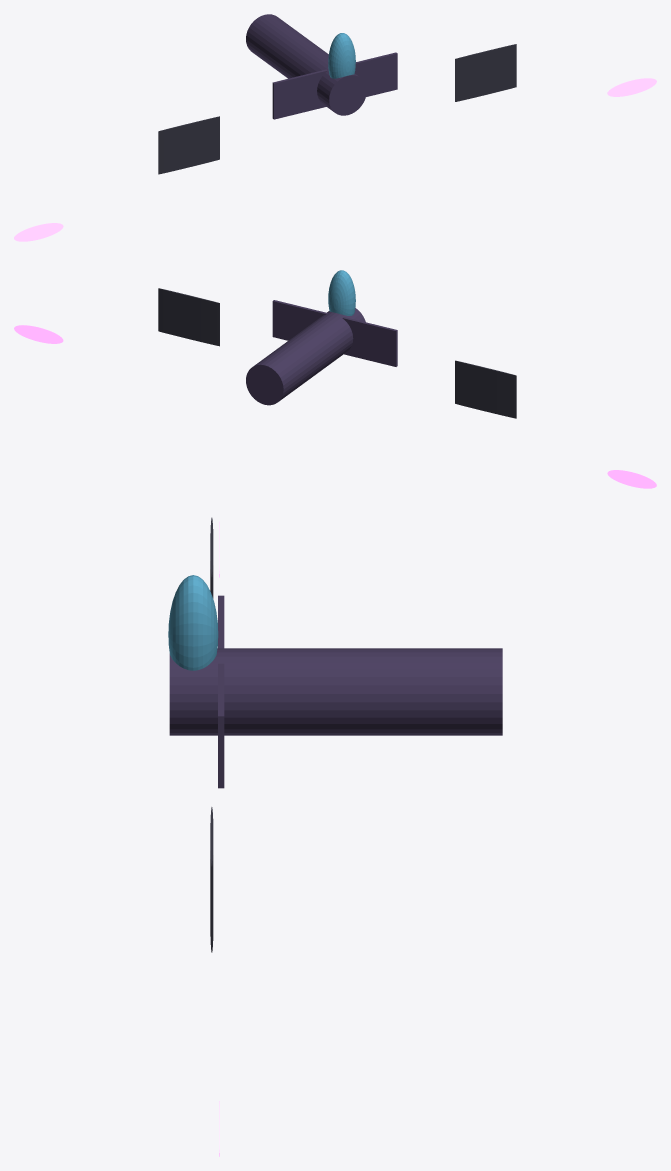
Rendered from CH_TrailGunship_LOD1.glb.
The picture shows the model from 3 angles, top to bottom: view 1: azimuth 30°, elevation 25°; view 2: azimuth 150°, elevation 25°; view 3: azimuth 270°, elevation 25°; orthographic projection. The views are drawn at different scales.
Parts seen in each view (by area): view 1: Cylinder, Cube, Cylinder.001, Cylinder.003, Sphere, Cylinder.004, Cylinder.002; view 2: Cylinder, Cube, Cylinder.001, Cylinder.003, Sphere, Cylinder.004, Cylinder.002; view 3: Cylinder, Sphere, Cube.
Part boxes in pixels (bbox=[...]): Cylinder: bbox=[246, 14, 366, 115]; Cube: bbox=[272, 52, 397, 119]; Cylinder.001: bbox=[158, 116, 219, 174]; Cylinder.003: bbox=[455, 44, 516, 101]; Sphere: bbox=[328, 33, 355, 78]; Cylinder.004: bbox=[607, 78, 656, 96]; Cylinder.002: bbox=[14, 223, 63, 241]; Cylinder: bbox=[246, 308, 365, 405]; Cube: bbox=[272, 300, 397, 366]; Cylinder.001: bbox=[455, 360, 516, 418]; Cylinder.003: bbox=[158, 288, 219, 346]; Sphere: bbox=[328, 270, 355, 315]; Cylinder.004: bbox=[14, 325, 63, 343]; Cylinder.002: bbox=[607, 470, 656, 488]; Cylinder: bbox=[169, 648, 502, 735]; Sphere: bbox=[168, 575, 218, 670]; Cube: bbox=[218, 595, 224, 788].
Size of what is drawn, in the model's own units: 18.72 by 3.86 by 4.21.
